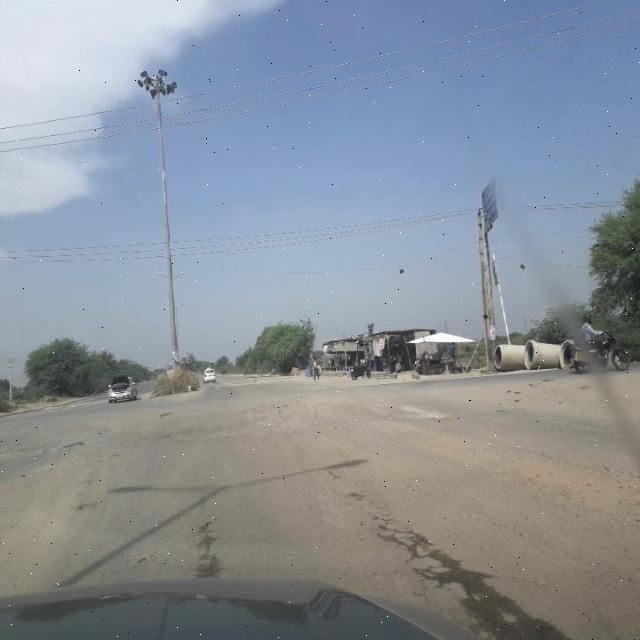D20: (364, 497, 476, 591)
